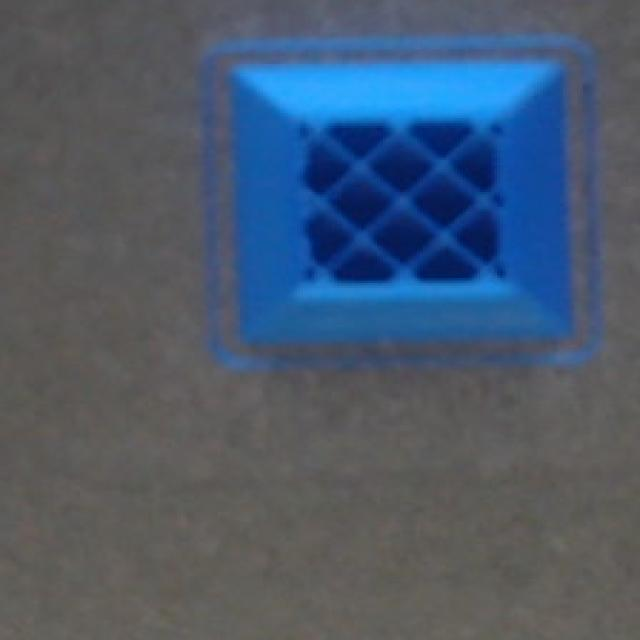noMistake: (203, 34, 597, 364)
